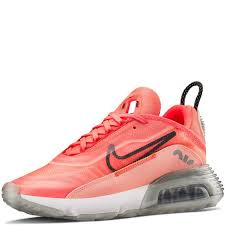nike: (87, 119, 196, 184)
